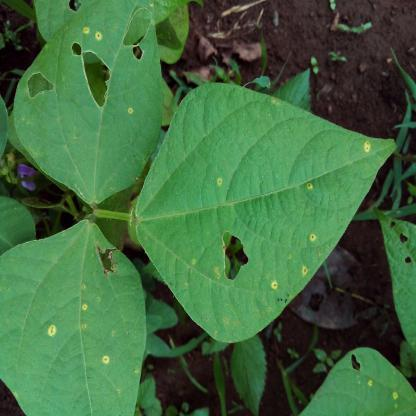Beans_Rust: (131, 86, 399, 348), (12, 0, 166, 205), (0, 219, 144, 416), (292, 345, 416, 414)
